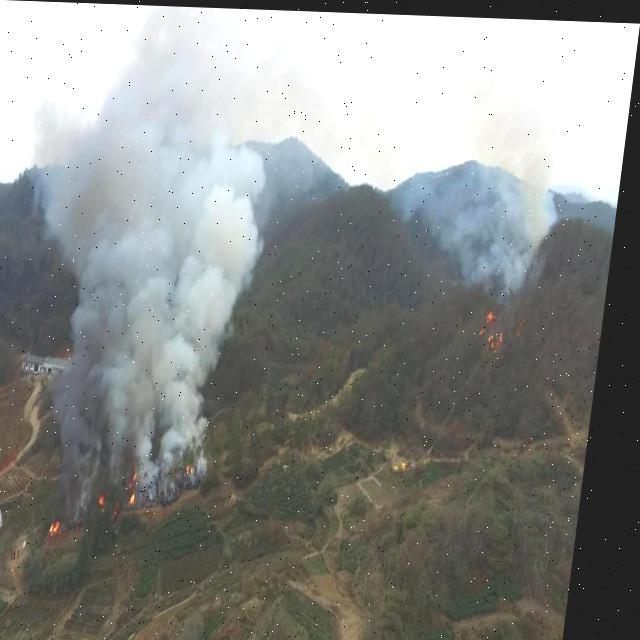Fire: (48, 363, 240, 565), (462, 260, 560, 374)
